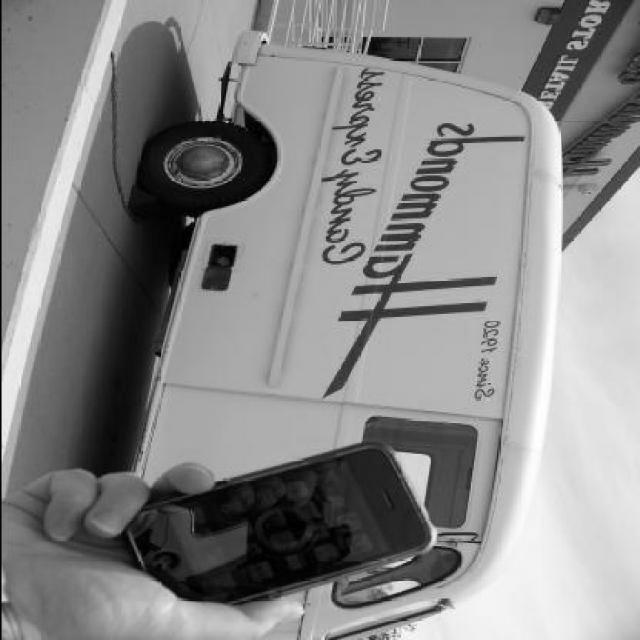fake: (100, 436, 474, 616)
